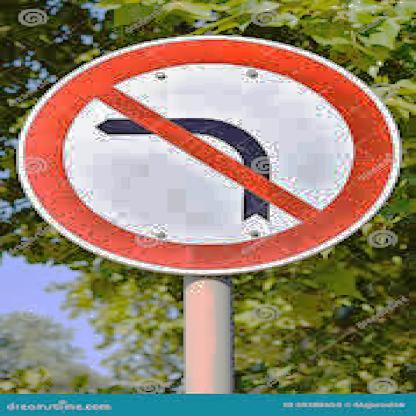No left turn: (14, 35, 397, 276)
